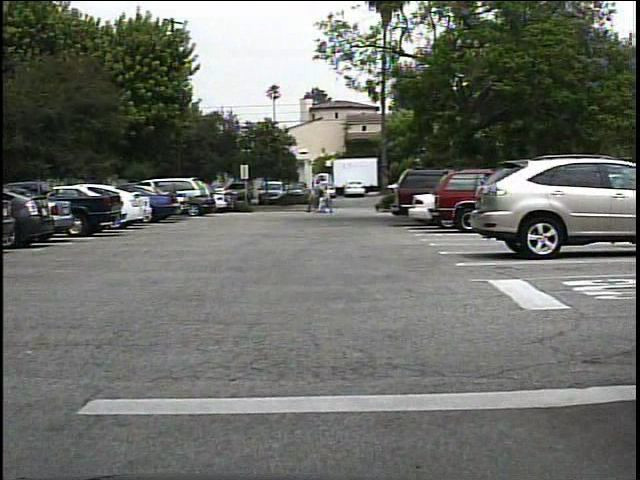person: (321, 186, 338, 216), (303, 185, 318, 215), (319, 186, 332, 216)
